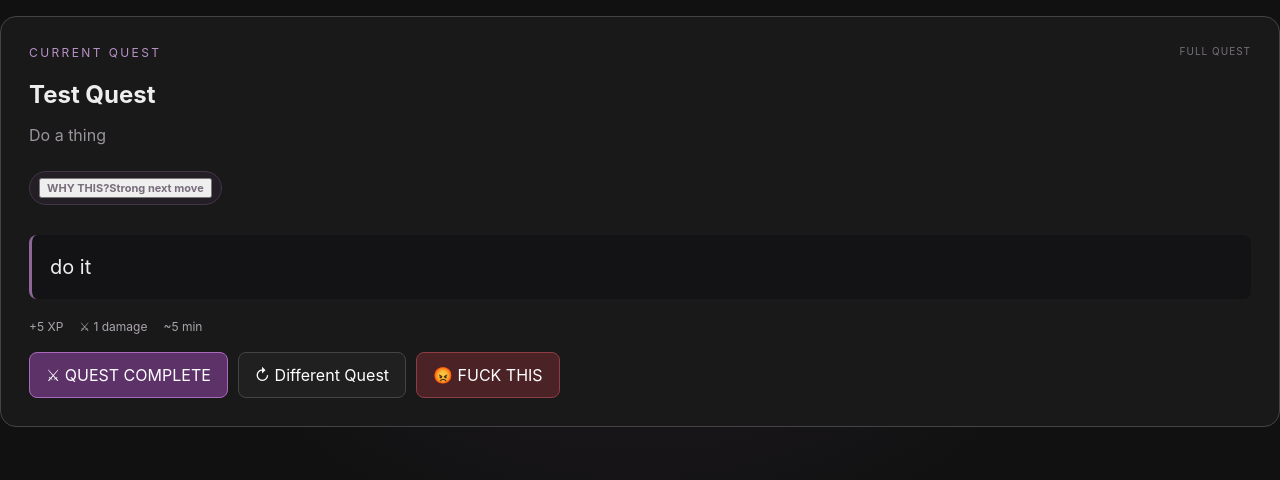
Scenario: QuestCard WHY THIS? explanation toggle › toggles explanation on click
Check: the text "Total:" is not shown
Note: Click WHY THIS?
Click the text "WHY THIS?".
click(78, 188)  # box [47,181,109,195]
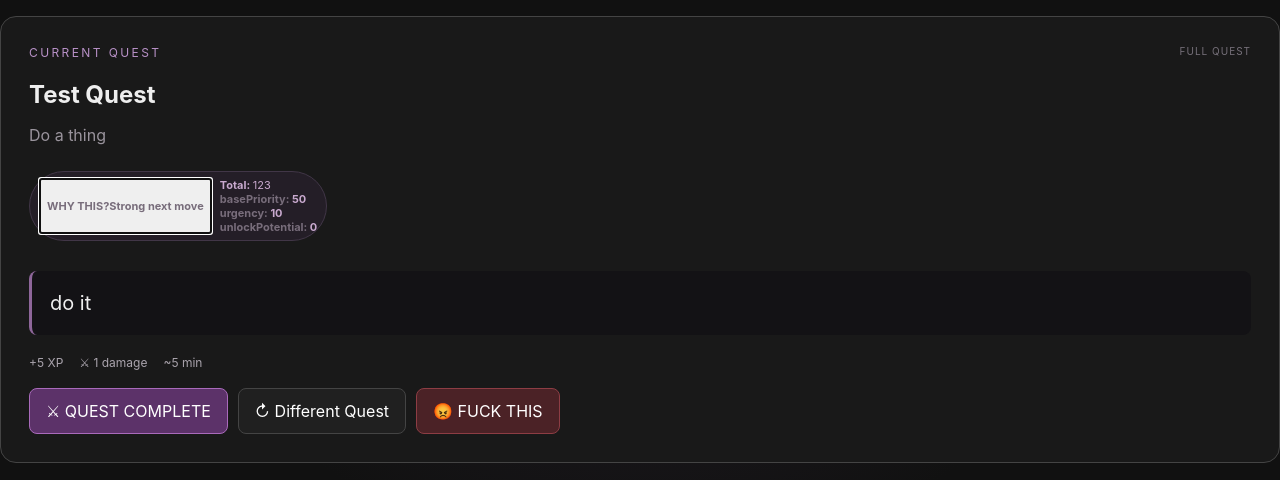
Check: the text "Total:" is shown, box [220,178,253,192]
Check: the text "123" is shown, box [253,178,271,192]
Note: click again to collapse
Click the text "WHY THIS?".
click(78, 206)  # box [47,199,109,213]
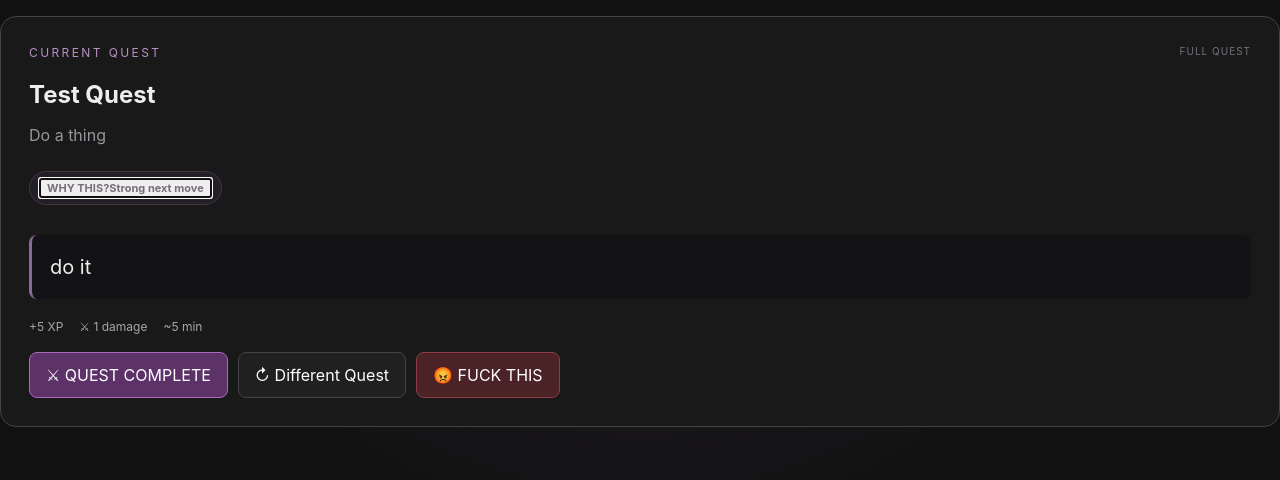
Check: the text "Total:" is gone
